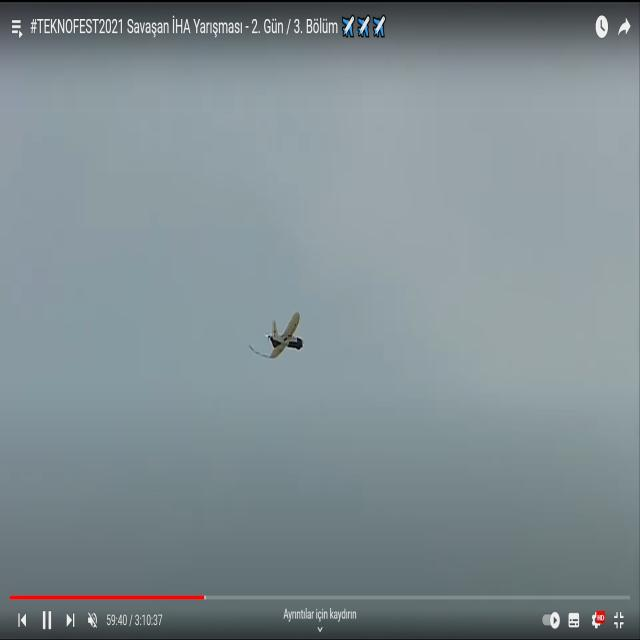iha: (268, 309, 304, 361)
